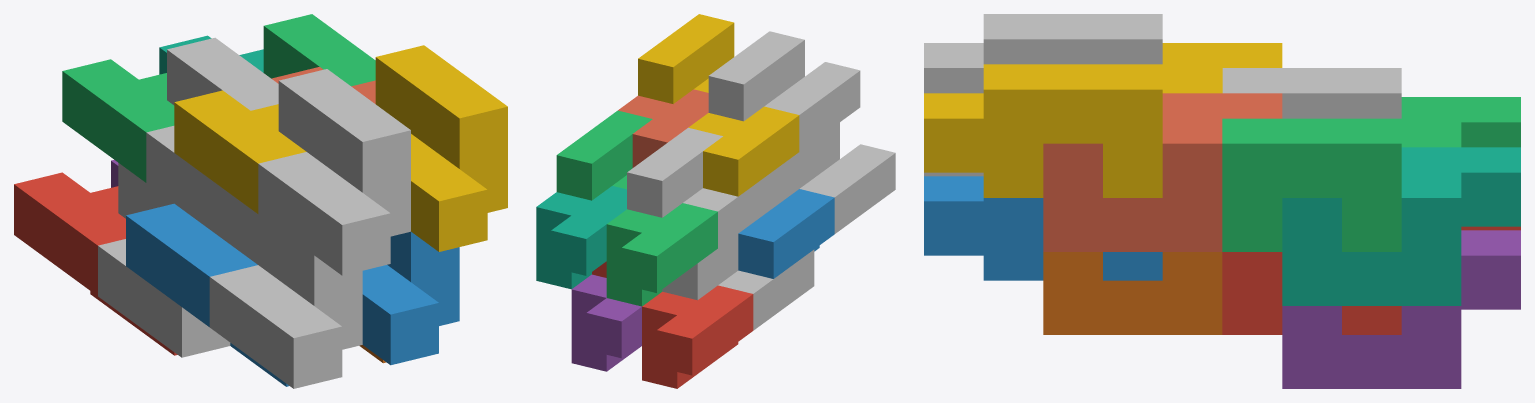
File: tiling.obj
The picture shows the model from 3 angles, left to right: view 1: azimuth 30°, elevation 25°; view 2: azimuth 150°, elevation 25°; view 3: azimuth 270°, elevation 25°; orthographic projection. The views are drawn at different scales.
Visible parts, largest first — view 1: copy_2_domain_4, copy_2_domain_8, copy_2_domain_2, copy_2_domain_3, copy_2_domain_6, copy_1_domain_1, copy_1_domain_4, copy_1_domain_2, copy_1_domain_3, copy_2_domain_1, copy_2_domain_7, copy_1_domain_7 (+1 smaller); view 2: copy_2_domain_4, copy_1_domain_1, copy_1_domain_3, copy_2_domain_3, copy_2_domain_2, copy_1_domain_7, copy_1_domain_4, copy_2_domain_8, copy_1_domain_2, copy_2_domain_1, copy_1_domain_5, copy_2_domain_7 (+1 smaller); view 3: copy_2_domain_8, copy_1_domain_7, copy_1_domain_8, copy_2_domain_7, copy_1_domain_5, copy_1_domain_6, copy_2_domain_4, copy_2_domain_6, copy_2_domain_3, copy_2_domain_5, copy_1_domain_3, copy_1_domain_4.
Part boxes in pixels (box(x1,y1,x2,y2)): copy_2_domain_4: box(258, 69, 410, 275); copy_2_domain_8: box(375, 45, 507, 251); copy_2_domain_2: box(209, 194, 362, 388); copy_2_domain_3: box(146, 37, 278, 243); copy_2_domain_6: box(362, 231, 459, 365); copy_1_domain_1: box(14, 172, 177, 355); copy_1_domain_4: box(174, 90, 306, 213); copy_1_domain_2: box(126, 203, 288, 386); copy_1_domain_3: box(62, 59, 174, 182); copy_2_domain_1: box(98, 163, 230, 357); copy_2_domain_7: box(263, 14, 375, 86); copy_1_domain_7: box(159, 35, 263, 74); copy_2_domain_4: box(708, 31, 860, 151); copy_1_domain_1: box(642, 285, 753, 388); copy_1_domain_3: box(606, 203, 717, 306); copy_2_domain_3: box(627, 127, 778, 247); copy_2_domain_2: box(779, 122, 895, 233); copy_1_domain_7: box(536, 186, 626, 289); copy_1_domain_4: box(688, 106, 799, 196); copy_2_domain_8: box(638, 14, 734, 103); copy_1_domain_2: box(738, 189, 834, 278); copy_2_domain_1: box(662, 234, 814, 330); copy_1_domain_5: box(571, 274, 641, 371); copy_2_domain_7: box(556, 110, 652, 200); copy_2_domain_8: box(924, 64, 1162, 197); copy_1_domain_7: box(1282, 147, 1520, 305); copy_1_domain_8: box(1043, 93, 1282, 251); copy_2_domain_7: box(1222, 118, 1401, 251); copy_1_domain_5: box(1282, 230, 1520, 388); copy_1_domain_6: box(1043, 252, 1222, 334); copy_2_domain_4: box(924, 14, 1162, 93); copy_2_domain_6: box(924, 176, 1162, 280); copy_2_domain_3: box(1222, 68, 1401, 118); copy_2_domain_5: box(1222, 252, 1401, 334); copy_1_domain_3: box(1401, 97, 1520, 147); copy_1_domain_4: box(1162, 43, 1282, 93).
Bounding box in the file's own units: 5 × 6 × 10.
